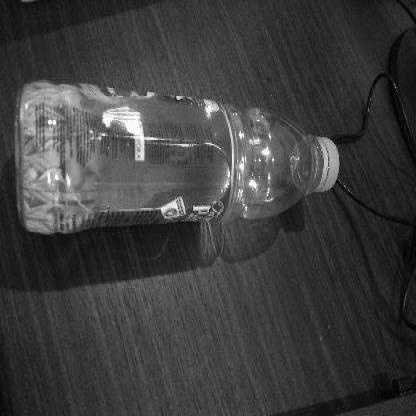plastic_bottles: (10, 75, 354, 242)
